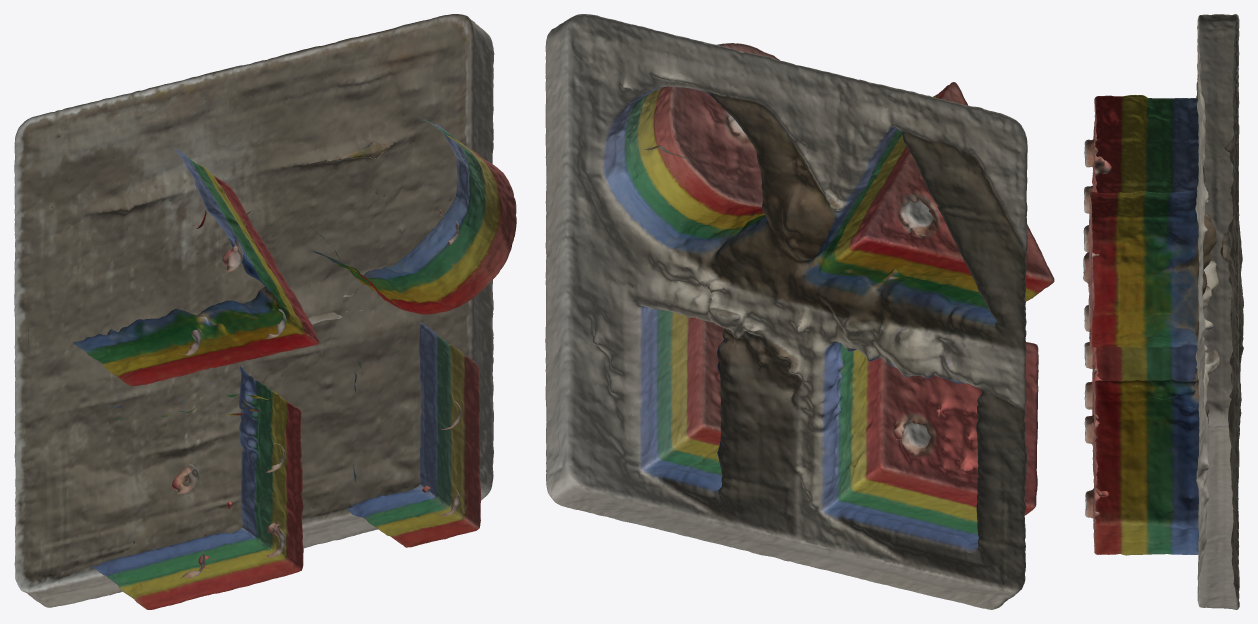
Rendered from sorting_board.glb.
3 views of the same model, side by side, from view 1: azimuth 30°, elevation 25°; view 2: azimuth 150°, elevation 25°; view 3: azimuth 270°, elevation 25° (orthographic). The views are drawn at different scales.
Size of the model in its own units: 1 by 0.9935 by 0.3465.
